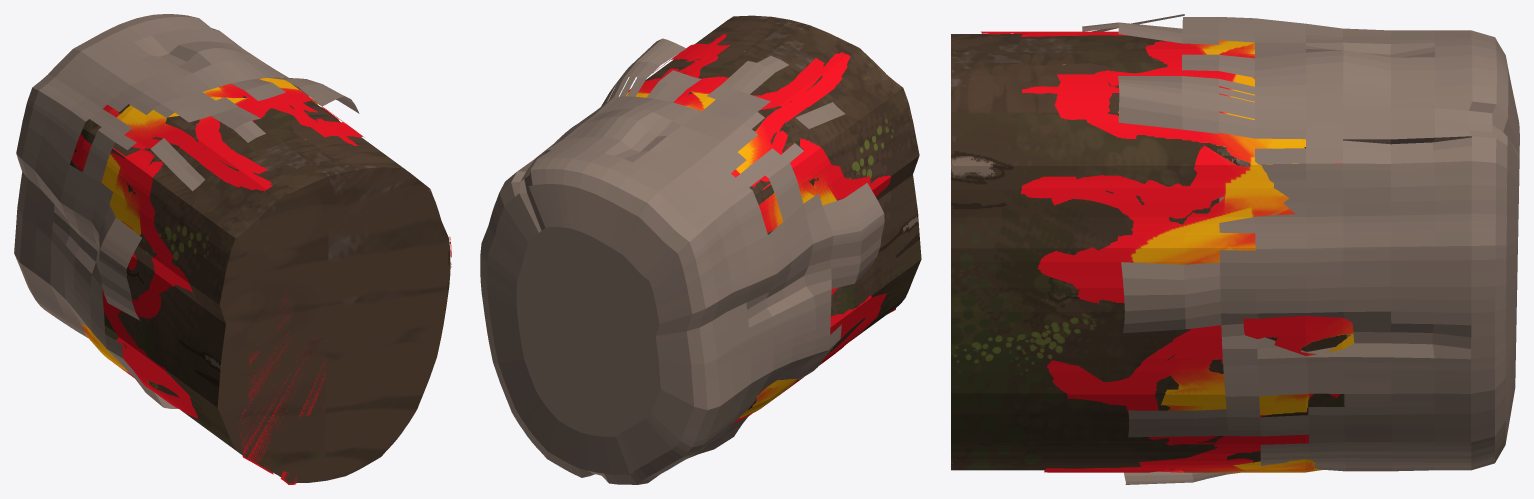
File: GFireEnhancer.fbx
3 views of the same model, side by side, from view 1: azimuth 30°, elevation 25°; view 2: azimuth 150°, elevation 25°; view 3: azimuth 270°, elevation 25° (orthographic). The views are drawn at different scales.
Parts seen in each view (by area): view 1: GFireEnhancer.002, GFireEnhancer.001, GFireEnhancer.003; view 2: GFireEnhancer.001, GFireEnhancer.002, GFireEnhancer.003; view 3: GFireEnhancer.001, GFireEnhancer.002, GFireEnhancer.003.
Part boxes in pixels (x1=…): GFireEnhancer.002: x1=69, y1=95, x2=450, y2=483; GFireEnhancer.001: x1=14, y1=14, x2=359, y2=408; GFireEnhancer.003: x1=71, y1=77, x2=451, y2=484; GFireEnhancer.001: x1=480, y1=38, x2=884, y2=484; GFireEnhancer.002: x1=645, y1=15, x2=921, y2=409; GFireEnhancer.003: x1=626, y1=34, x2=895, y2=425; GFireEnhancer.001: x1=1082, y1=14, x2=1519, y2=484; GFireEnhancer.002: x1=951, y1=34, x2=1346, y2=470; GFireEnhancer.003: x1=981, y1=31, x2=1354, y2=472.
Size of the model in its own units: 127 by 143 by 170.
